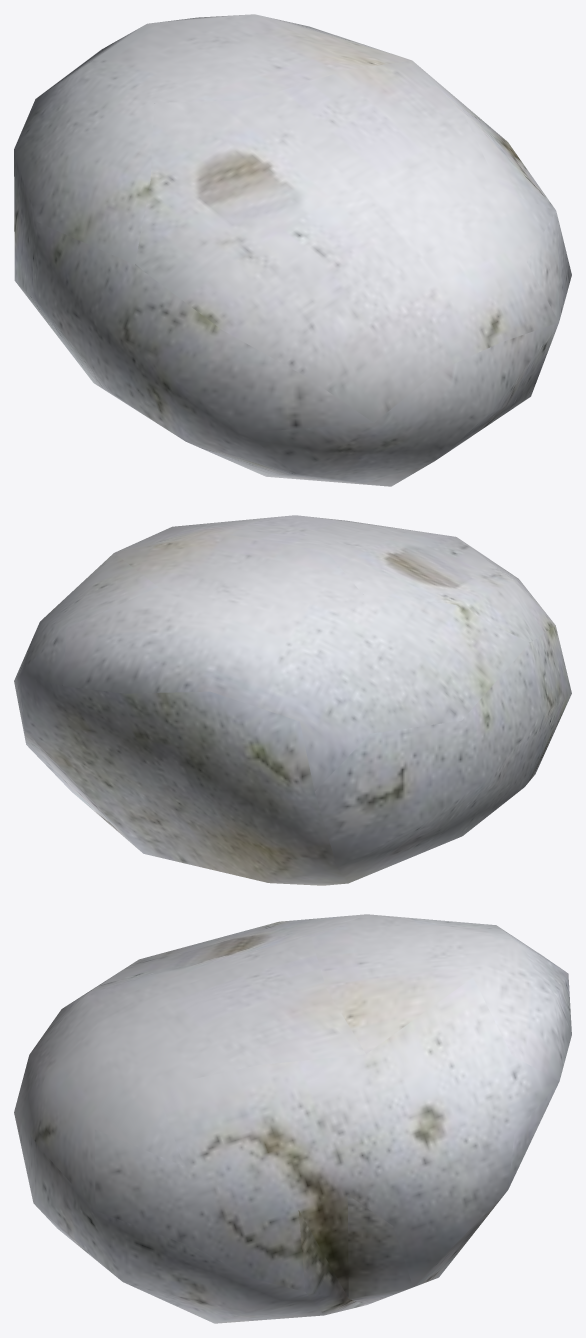
File: rock.glb
The picture shows the model from 3 angles, top to bottom: view 1: azimuth 30°, elevation 25°; view 2: azimuth 150°, elevation 25°; view 3: azimuth 270°, elevation 25°; orthographic projection. The views are drawn at different scales.
Parts seen in each view (by area): view 1: rock036_lod4; view 2: rock036_lod4; view 3: rock036_lod4.
Boxes of the visible parts, x1,y1,x2,y2 form: rock036_lod4: [14, 14, 571, 486]; rock036_lod4: [14, 515, 571, 885]; rock036_lod4: [14, 914, 571, 1323].
Bounding box in the file's own units: 0.8939 × 0.644 × 1.
Materials: 1 (1 with a texture image).
